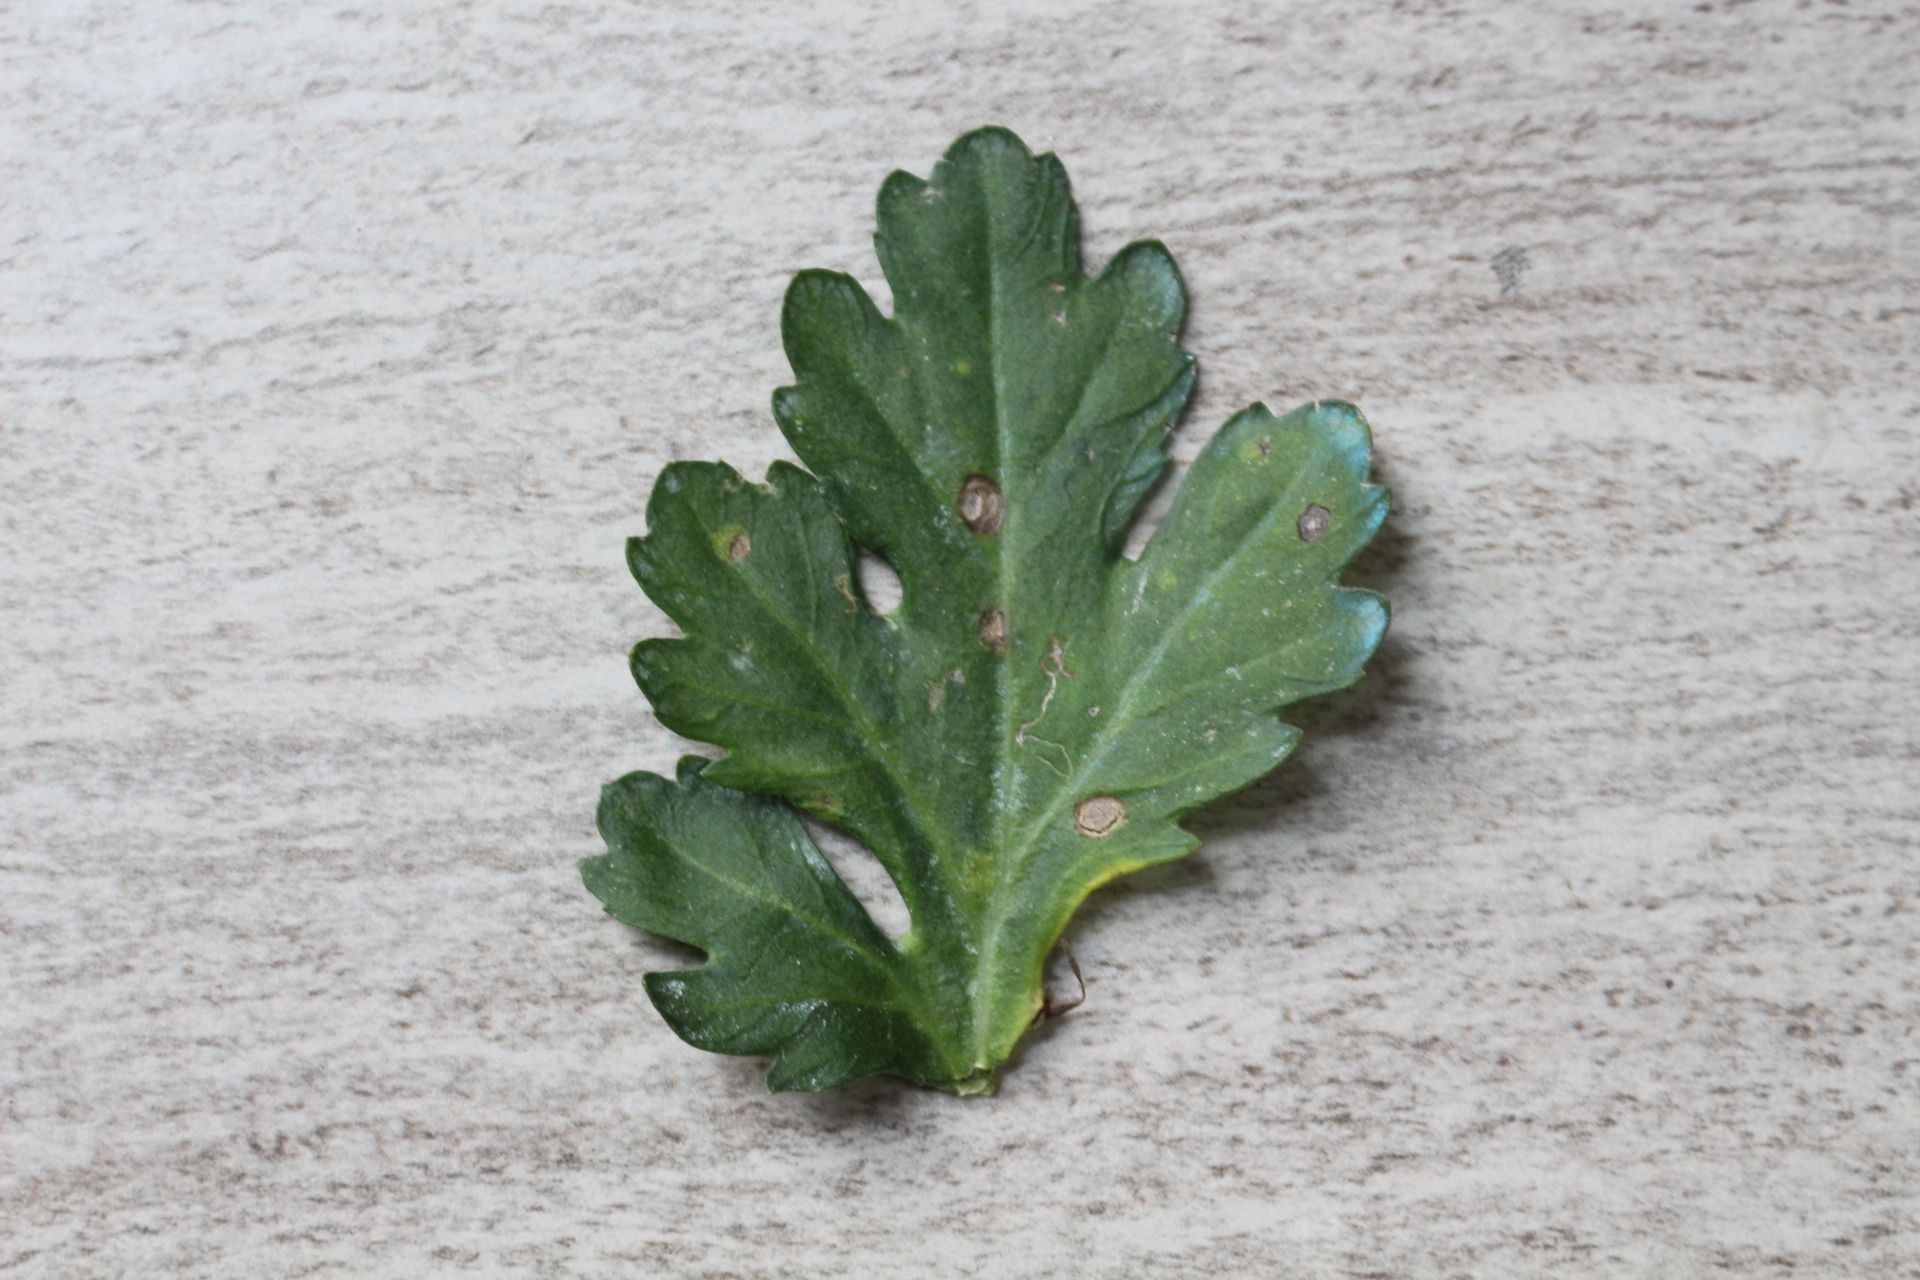namden: (951, 469, 1013, 539), (1067, 794, 1131, 844), (970, 600, 1010, 649), (1299, 501, 1334, 549), (720, 527, 759, 570)
